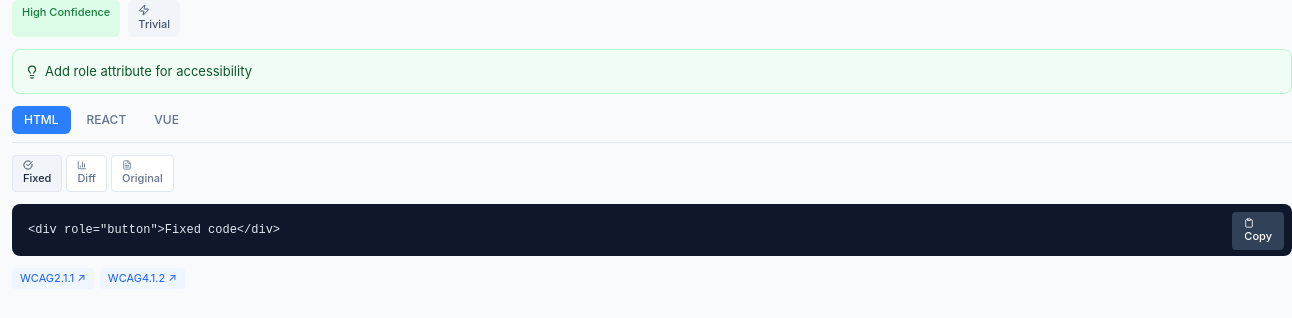
Test: findings/FixCodePreview › renders diff view with green styling for added lines
This screenshot has width=1292, height=318.
Click the button "Diff" at (87, 173), box [66,155,107,192]
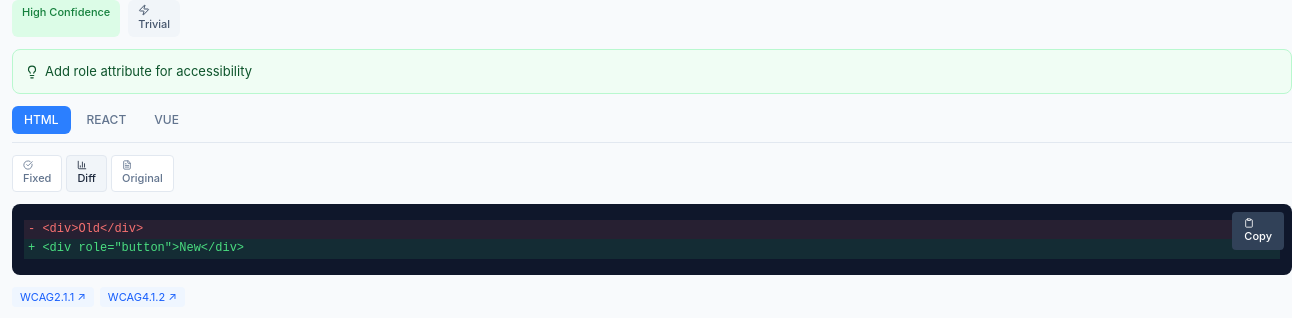
expect the text "+ <div role=\"button\">New</div>" is shown: met, box [24,239,1280,258]
